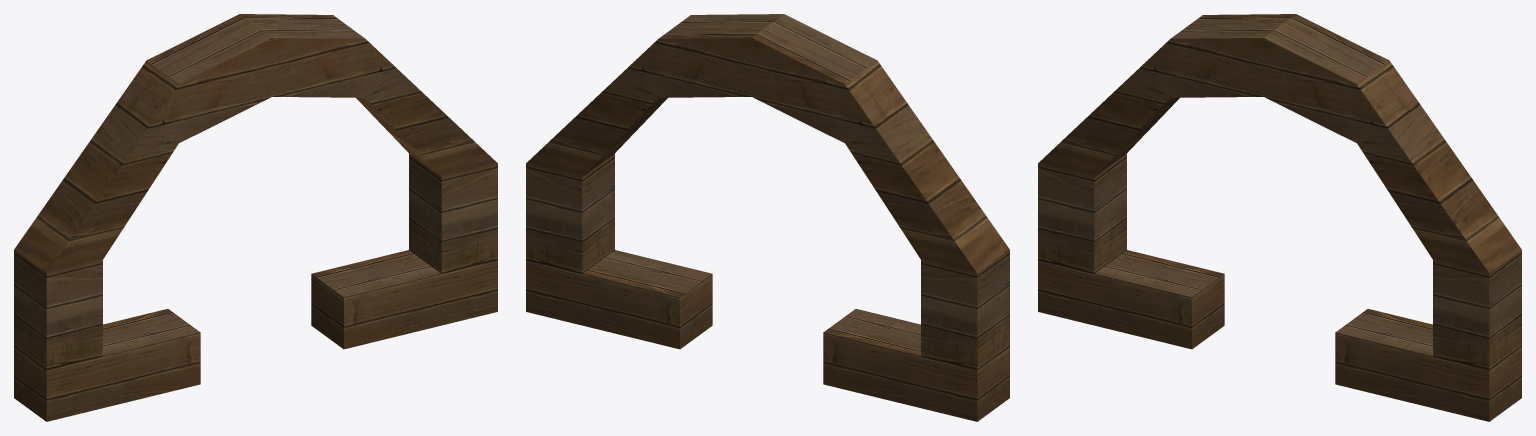
The model's file is part_wood_support.gltf.
The picture shows the model from 3 angles, left to right: view 1: azimuth 30°, elevation 25°; view 2: azimuth 150°, elevation 25°; view 3: azimuth 330°, elevation 25°; orthographic projection.
Parts seen in each view (by area): view 1: part_wood_support_glb; view 2: part_wood_support_glb; view 3: part_wood_support_glb.
Boxes of the visible parts, <box> form: part_wood_support_glb: <box>14,14,497,421</box>; part_wood_support_glb: <box>526,14,1009,421</box>; part_wood_support_glb: <box>1038,14,1521,421</box>.
Size of the model in its own units: 4 by 2.79 by 0.5.
Materials: 1 (1 with a texture image).
